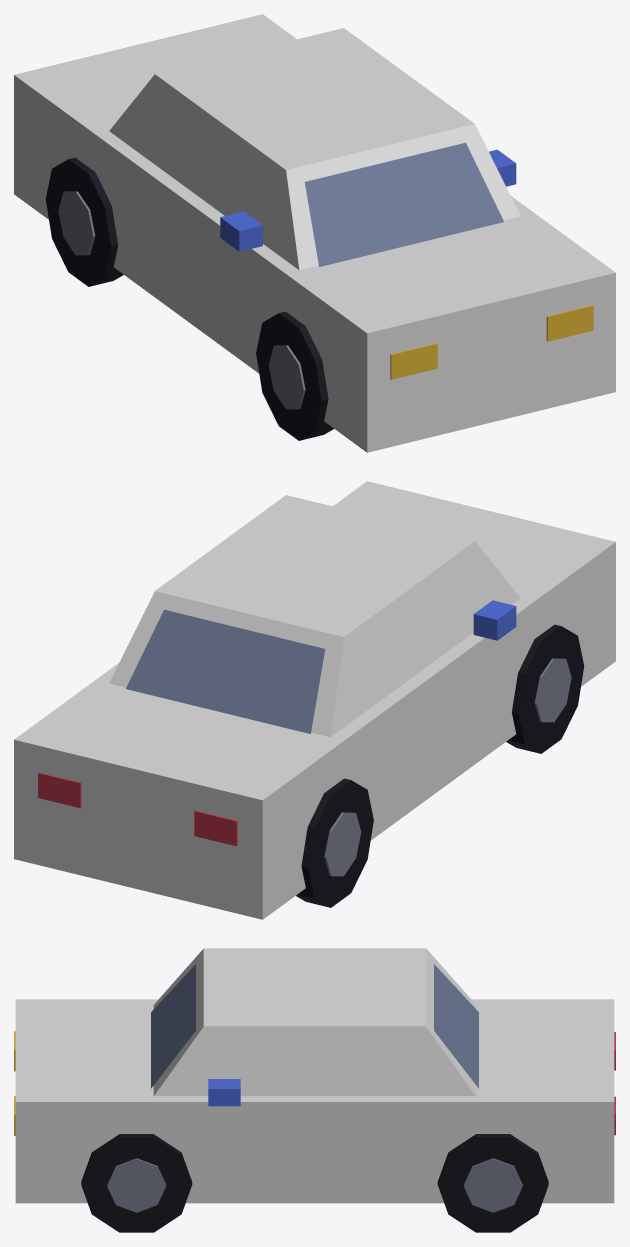
Rendered from SCR_Car_Sedan_Blue.fbx.
3 views of the same model, one above another, from view 1: azimuth 30°, elevation 25°; view 2: azimuth 150°, elevation 25°; view 3: azimuth 270°, elevation 25° (orthographic). The views are drawn at different scales.
Visible parts, largest first — view 1: SCR_Car_Sedan_Blue_Body_Outline, SCR_Car_Sedan_Blue_Details; view 2: SCR_Car_Sedan_Blue_Body_Outline, SCR_Car_Sedan_Blue_Details; view 3: SCR_Car_Sedan_Blue_Body_Outline, SCR_Car_Sedan_Blue_Details.
Part boxes in pixels (box(x1,y1,x2,y2)): SCR_Car_Sedan_Blue_Body_Outline: box(14, 14, 615, 452); SCR_Car_Sedan_Blue_Details: box(45, 142, 593, 440); SCR_Car_Sedan_Blue_Body_Outline: box(14, 481, 615, 919); SCR_Car_Sedan_Blue_Details: box(38, 600, 584, 907); SCR_Car_Sedan_Blue_Body_Outline: box(15, 948, 614, 1203); SCR_Car_Sedan_Blue_Details: box(14, 964, 615, 1232).
Bounding box in the file's own units: 210 × 163 × 466.
